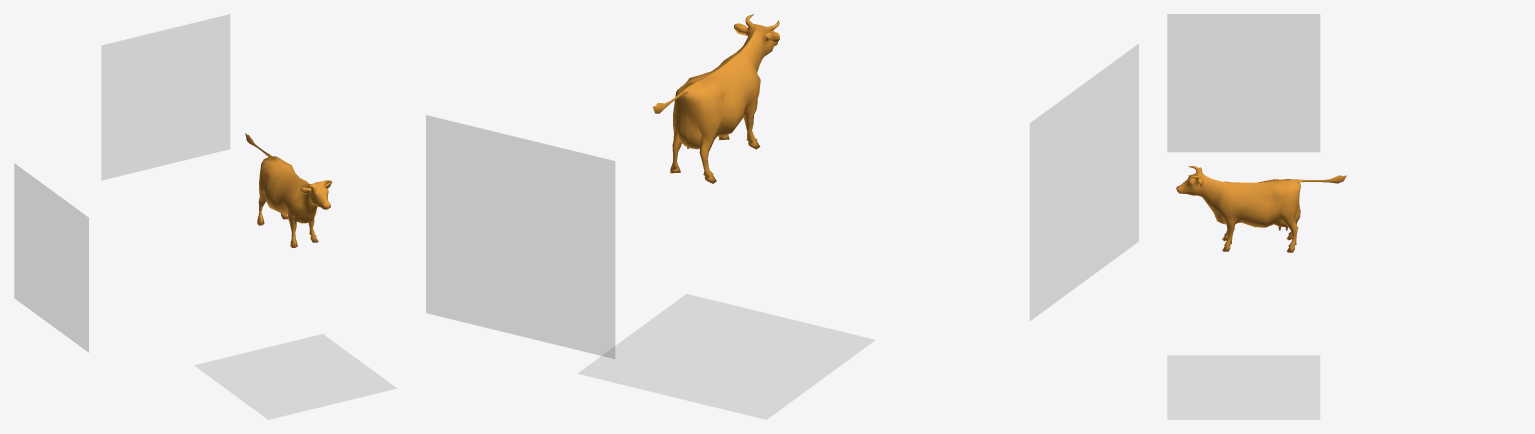
Rendered from Cow.obj.
The picture shows the model from 3 angles, left to right: view 1: azimuth 30°, elevation 25°; view 2: azimuth 150°, elevation 25°; view 3: azimuth 270°, elevation 25°; orthographic projection. The views are drawn at different scales.
Visible parts, largest first — view 1: Plane05, Plane03, Plane04, Plane02, Plane01; view 2: Plane05, Plane03, Plane04, Plane02, Plane01; view 3: Plane03, Plane04, Plane01.
Part boxes in pixels (box(x1,y1,x2,y2)): Plane05: box(101, 14, 229, 179); Plane03: box(14, 163, 88, 352); Plane04: box(194, 334, 396, 419); Plane02: box(245, 133, 328, 247); Plane01: box(250, 137, 332, 242); Plane05: box(426, 115, 614, 358); Plane03: box(1030, 44, 1138, 320); Plane04: box(578, 294, 874, 419); Plane02: box(652, 20, 779, 183); Plane01: box(670, 14, 759, 173); Plane03: box(1167, 14, 1319, 151); Plane04: box(1167, 355, 1319, 419); Plane01: box(1176, 172, 1346, 252).
Size of the model in its own units: 50.94 by 38.3 by 48.48.
